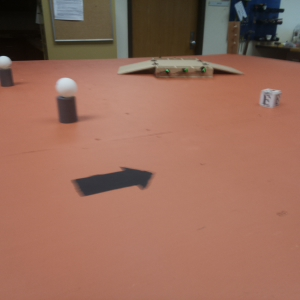blockE: (261, 88, 283, 112)
corner: (226, 22, 241, 56)
obstacle: (55, 79, 84, 127), (1, 55, 16, 89)
side: (153, 64, 211, 79)
slope: (117, 59, 152, 75), (212, 61, 244, 76)
start: (70, 163, 153, 203)
